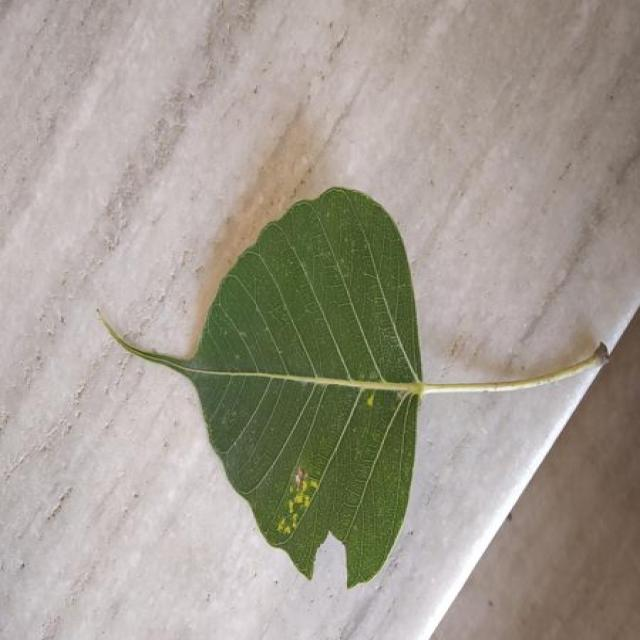arali: (107, 188, 607, 586)
